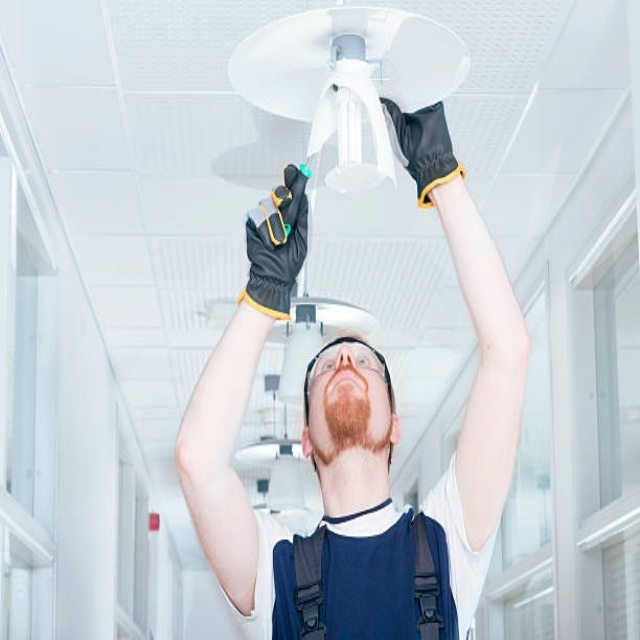Gafas: (305, 336, 393, 405)
Guantes: (239, 162, 313, 320), (379, 93, 464, 206)
Sin_mascara: (317, 367, 374, 419)
